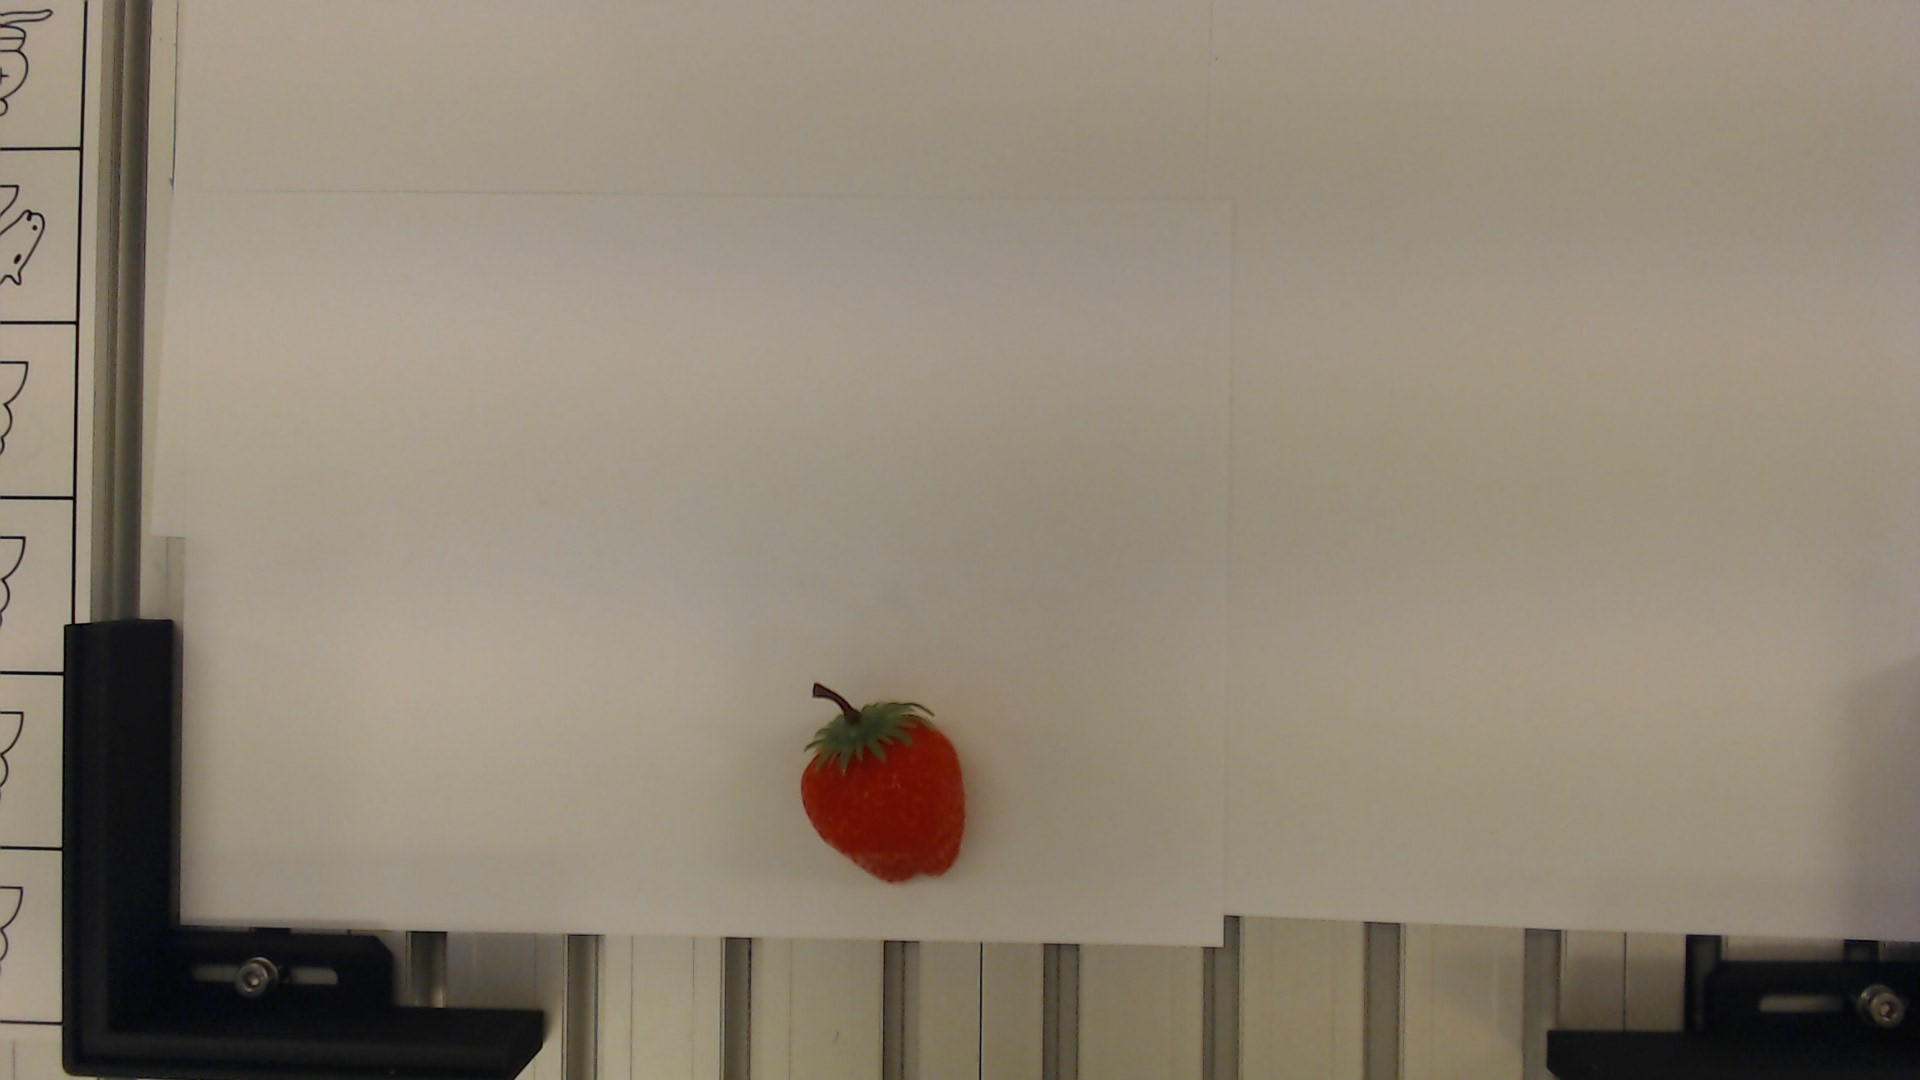Strawberry: (793, 680, 967, 882)
